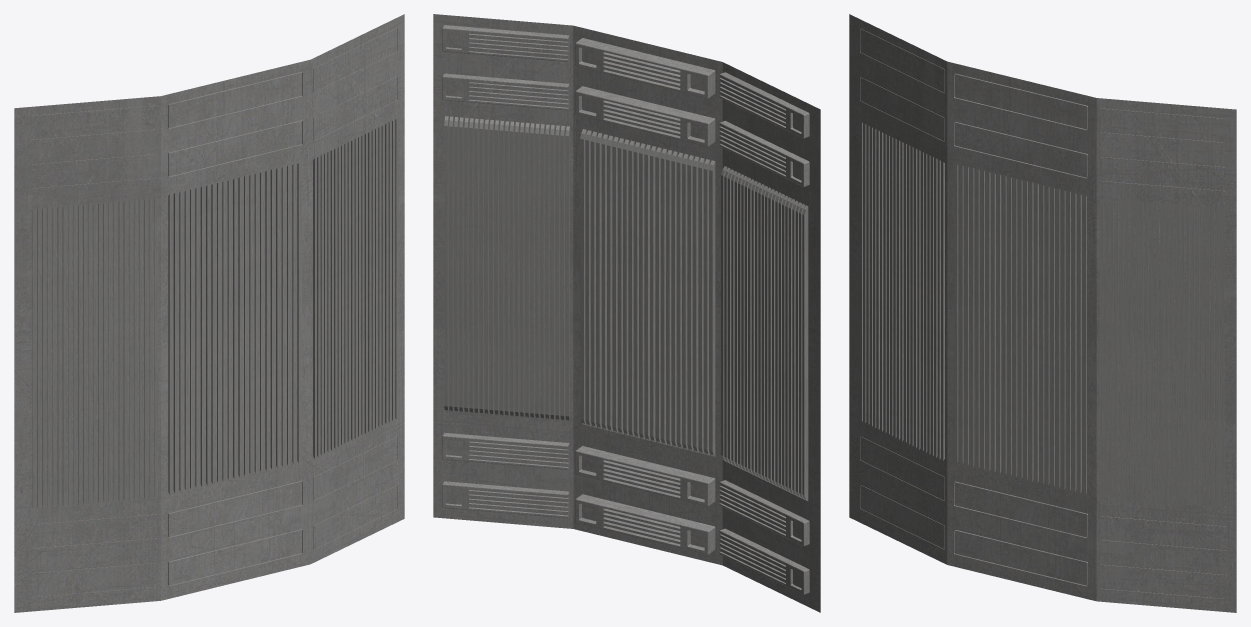
Rendered from HolodeckWall.fbx.
3 views of the same model, side by side, from view 1: azimuth 30°, elevation 25°; view 2: azimuth 150°, elevation 25°; view 3: azimuth 330°, elevation 25° (orthographic).
Parts seen in each view (by area): view 1: HolodeckWallHigh; view 2: HolodeckWallHigh; view 3: HolodeckWallHigh.
Boxes of the visible parts, x1,y1,x2,y2 form: HolodeckWallHigh: (14,14,404,612); HolodeckWallHigh: (433,14,820,612); HolodeckWallHigh: (849,14,1236,612).
Bounding box in the file's own units: 758 × 938 × 87.71.
